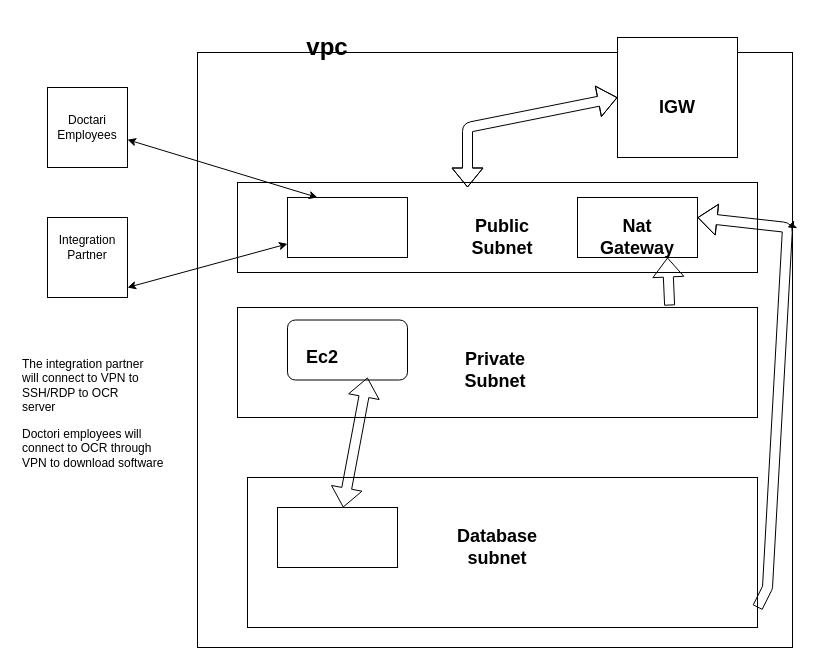
This 818x665 diagram has some shape labels left out. Each missing label, with the box of its shape:
RDS: (276, 506, 398, 568)
VPN: (286, 196, 408, 258)
